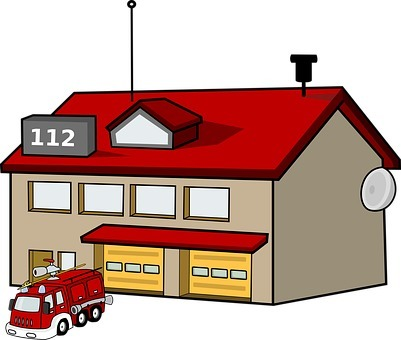car: (1, 262, 114, 335)
